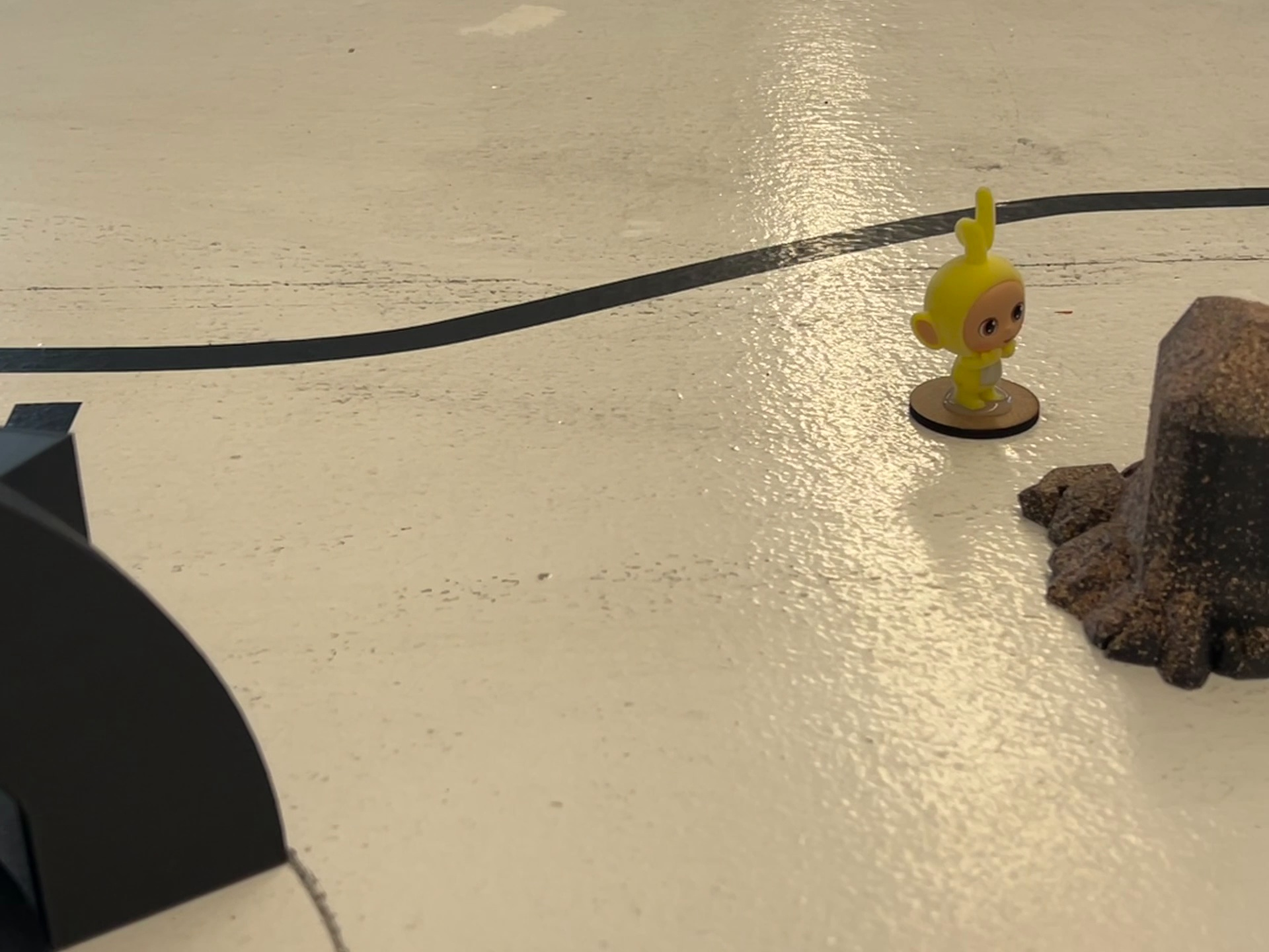teletubby: (911, 188, 1024, 409)
